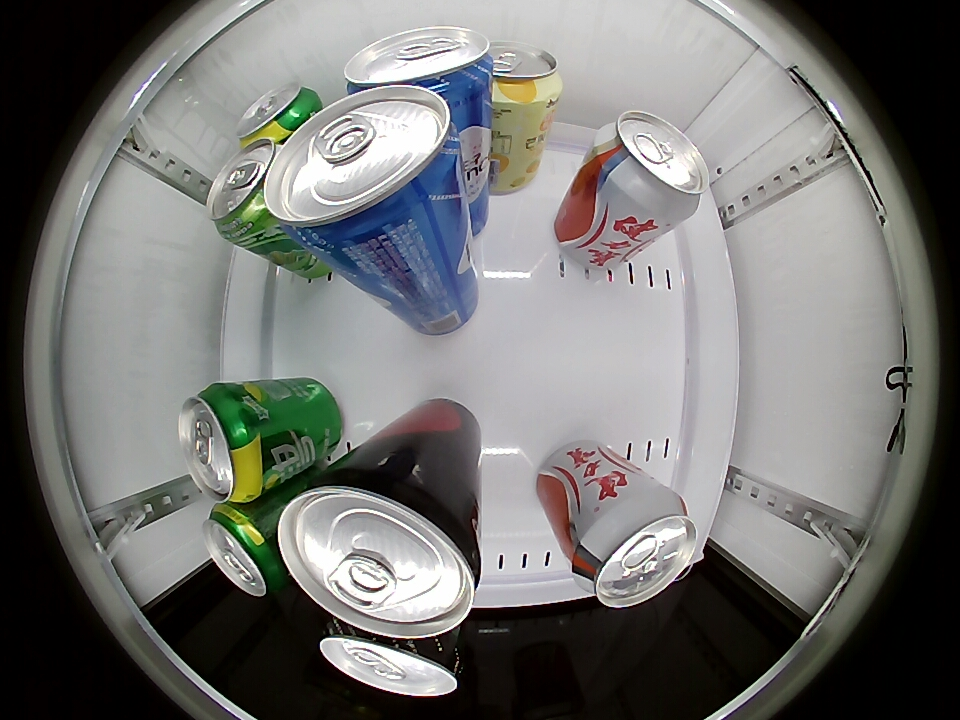jianlibao: (573, 485, 699, 608), (594, 109, 708, 222)
lingdukele: (277, 464, 481, 639)
mangguoxiaolao: (486, 42, 562, 107)
qingdaowangzi-1: (319, 620, 463, 697)
qingdaowangzi-2: (266, 84, 457, 250), (343, 26, 492, 100)
quchenshixiangcao: (205, 138, 283, 242)
xuebi2: (180, 382, 272, 504), (202, 503, 286, 597), (235, 83, 321, 146)
